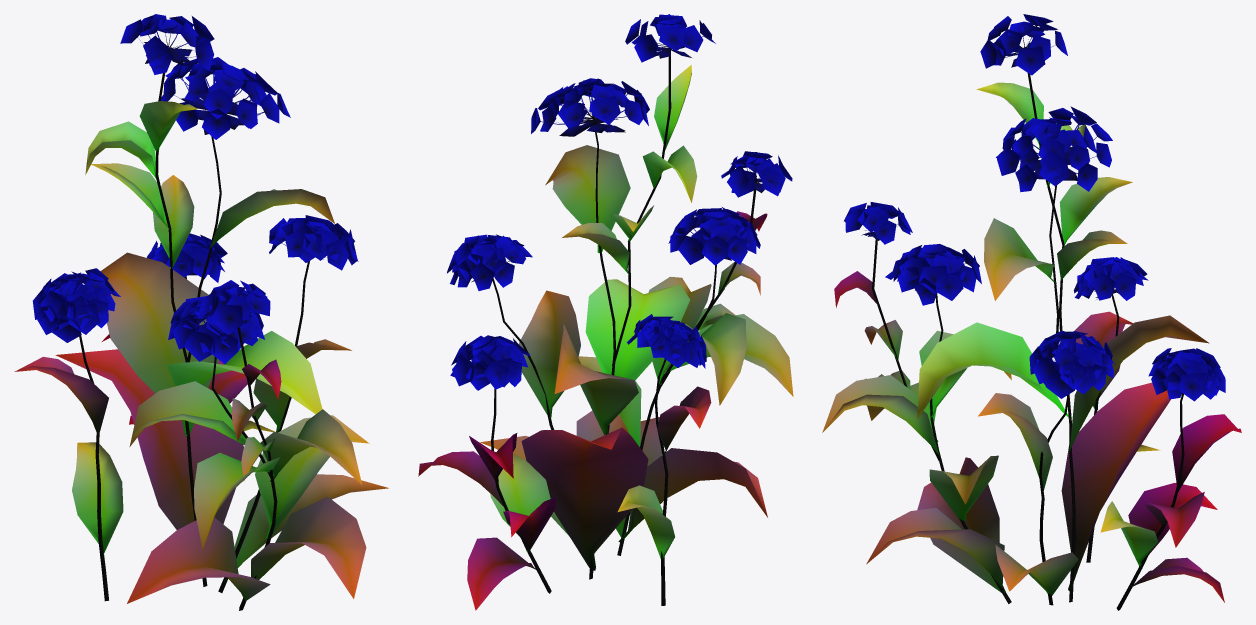
Rendered from SM_WildCarrot_M_02.fbx.
3 views of the same model, side by side, from view 1: azimuth 30°, elevation 25°; view 2: azimuth 150°, elevation 25°; view 3: azimuth 270°, elevation 25° (orthographic). The views are drawn at different scales.
Visible parts, largest first — view 1: SM_WildCarrot_M_02_LOD0; view 2: SM_WildCarrot_M_02_LOD0; view 3: SM_WildCarrot_M_02_LOD0.
Part boxes in pixels (x1,y1,x2,y2): SM_WildCarrot_M_02_LOD0: [14, 14, 388, 610]; SM_WildCarrot_M_02_LOD0: [418, 14, 793, 610]; SM_WildCarrot_M_02_LOD0: [822, 14, 1241, 610].
Bounding box in the file's own units: 62.63 × 80.8 × 117.
